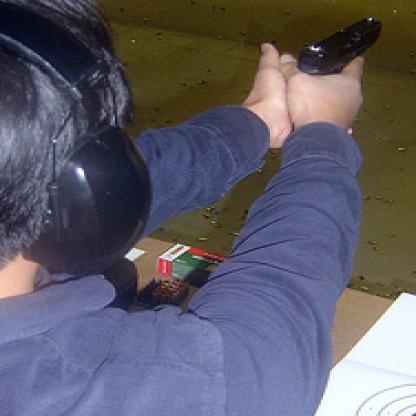gun: (290, 6, 392, 96)
